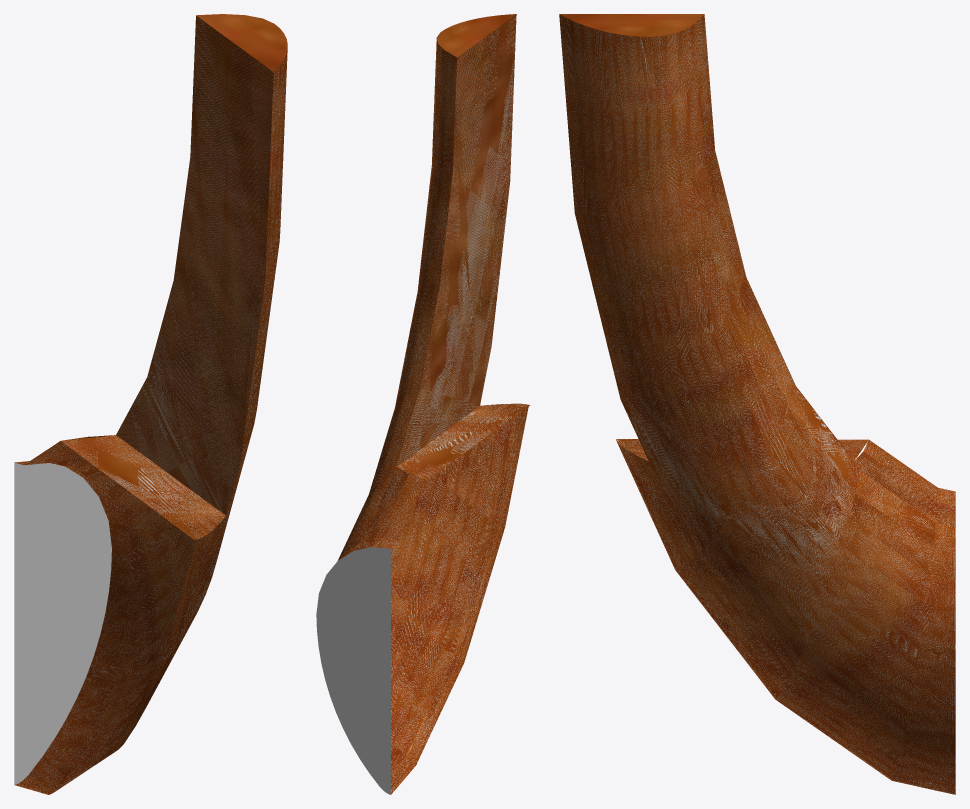
Rendered from original-118.obj.
The picture shows the model from 3 angles, left to right: view 1: azimuth 30°, elevation 25°; view 2: azimuth 150°, elevation 25°; view 3: azimuth 270°, elevation 25°; orthographic projection. The views are drawn at different scales.
Parts seen in each view (by area): view 1: Quarter_handle1/Quarter_handle/mesh9/mesh9-geometry#mesh9-geomet; view 2: Quarter_handle1/Quarter_handle/mesh9/mesh9-geometry#mesh9-geomet; view 3: Quarter_handle1/Quarter_handle/mesh9/mesh9-geometry#mesh9-geomet.
Part boxes in pixels (bbox=[...]): Quarter_handle1/Quarter_handle/mesh9/mesh9-geometry#mesh9-geomet: bbox=[14, 14, 287, 794]; Quarter_handle1/Quarter_handle/mesh9/mesh9-geometry#mesh9-geomet: bbox=[316, 14, 530, 794]; Quarter_handle1/Quarter_handle/mesh9/mesh9-geometry#mesh9-geomet: bbox=[559, 14, 955, 794].
Bounding box in the file's own units: 0.00858 × 0.0708 × 0.0318.
